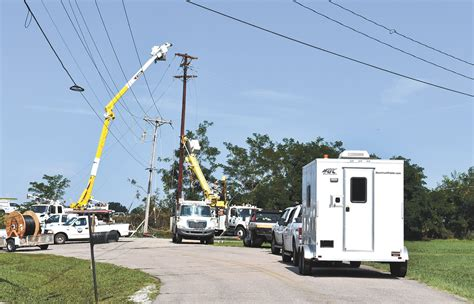pole: (27, 1, 200, 199)
